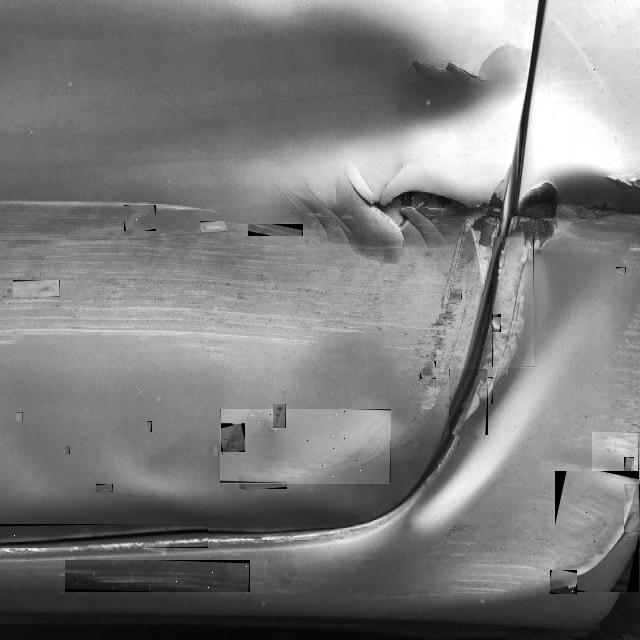Dent: (220, 410, 391, 486), (555, 471, 639, 592), (65, 560, 250, 592), (492, 238, 534, 370), (550, 18, 610, 102), (0, 524, 208, 548), (449, 370, 488, 438), (592, 432, 639, 472), (124, 206, 156, 233), (13, 280, 60, 297), (624, 484, 640, 532), (239, 475, 287, 489), (248, 224, 303, 236), (221, 425, 245, 452), (550, 570, 577, 594), (478, 377, 493, 404), (498, 240, 510, 272), (420, 362, 436, 382), (273, 404, 286, 428), (624, 457, 634, 487), (200, 221, 226, 232), (520, 250, 531, 270), (492, 316, 501, 332), (450, 290, 462, 302), (96, 484, 113, 492), (616, 267, 626, 276), (630, 244, 640, 252), (16, 412, 23, 421), (147, 421, 152, 432), (514, 335, 520, 344), (214, 446, 218, 458), (65, 446, 70, 454)
